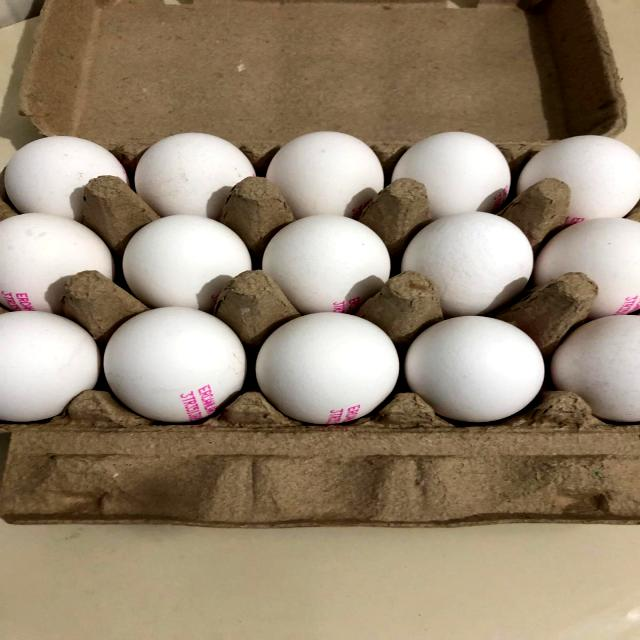egg: (5, 134, 640, 432), (84, 290, 247, 421), (247, 303, 402, 428), (398, 305, 550, 429), (253, 201, 404, 311), (401, 205, 543, 309), (115, 207, 257, 307), (0, 126, 131, 223), (133, 129, 259, 217), (388, 131, 517, 215), (274, 123, 386, 218)
